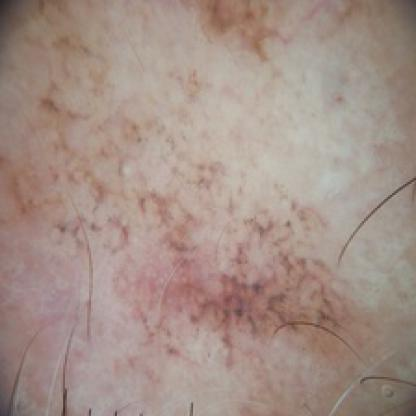malignant: (93, 106, 377, 342)
